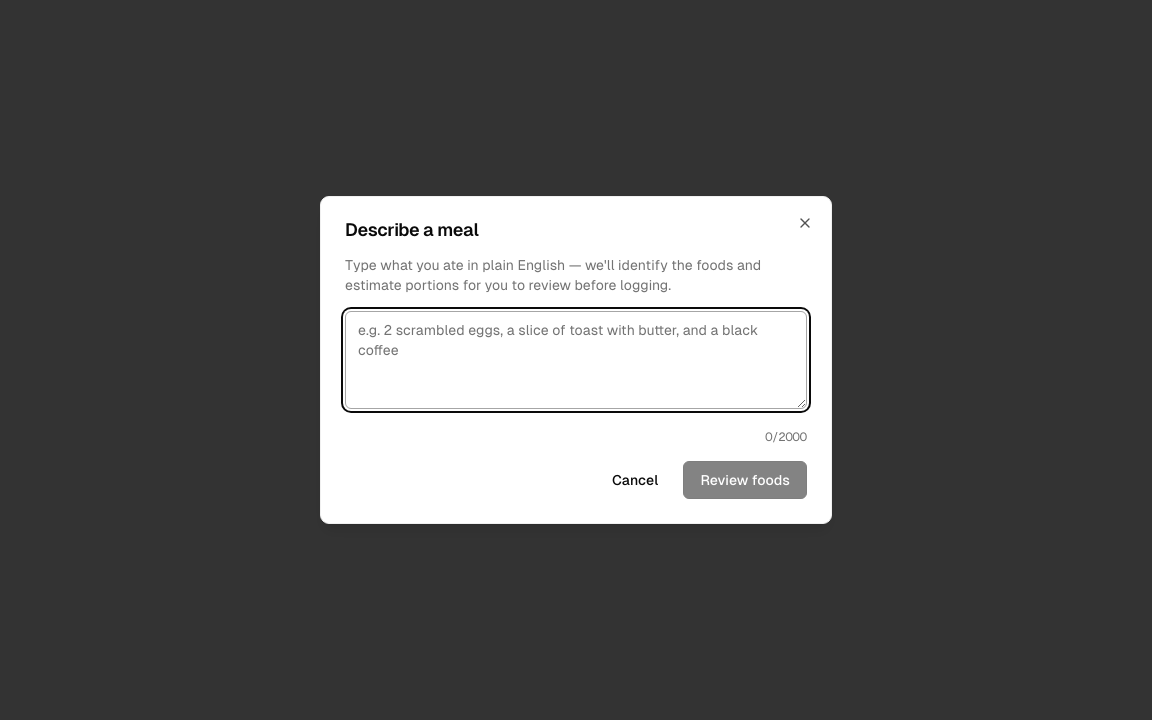
Test case: DescribeMealDialog › keeps the dialog and text when the parse finds no foods
The width and height of the screenshot is (1152, 720).
Type "asdf" into the text box with test id "input-describe-meal" at [576, 360], box [345,311,807,409]
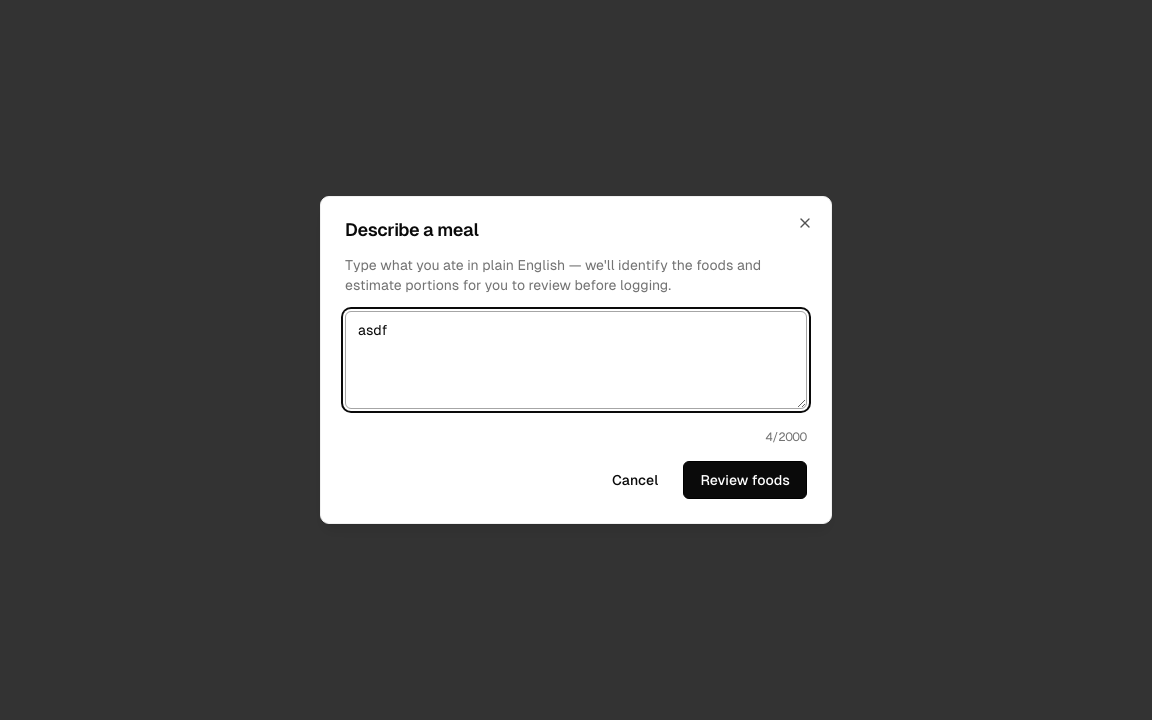
Click the button with test id "button-parse-meal" at [745, 480], box [683,461,807,499]
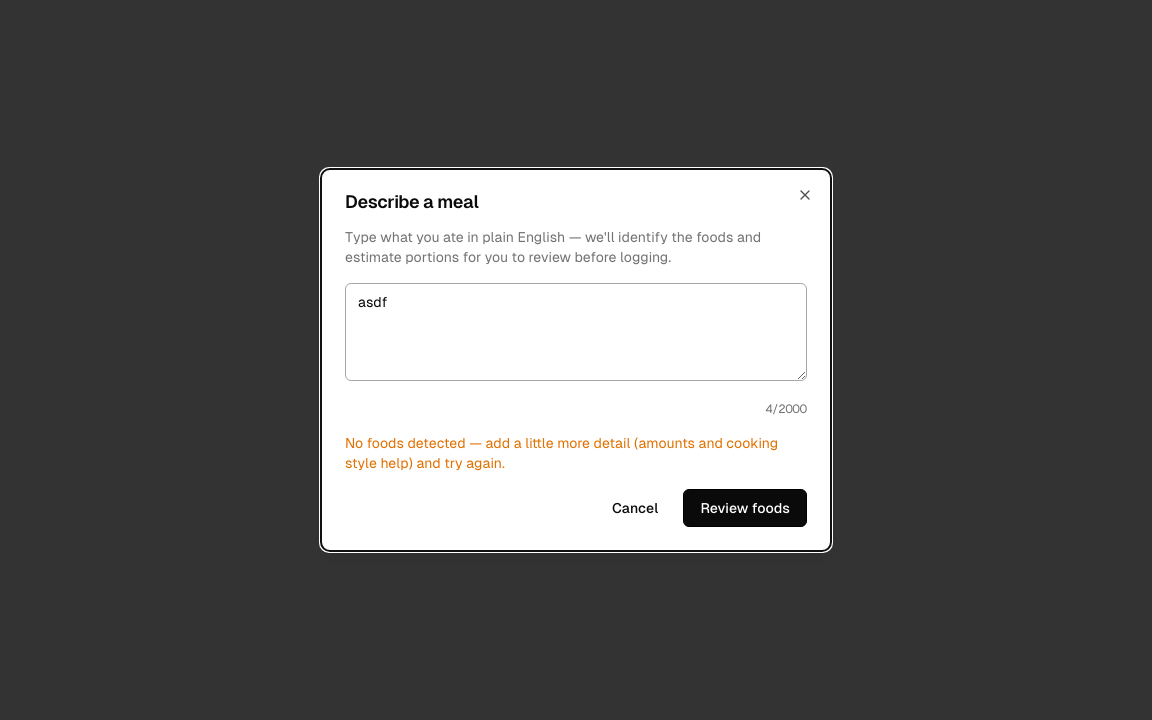
Check: the text with test id "text-no-foods-found" is shown, box [345,433,807,473]
